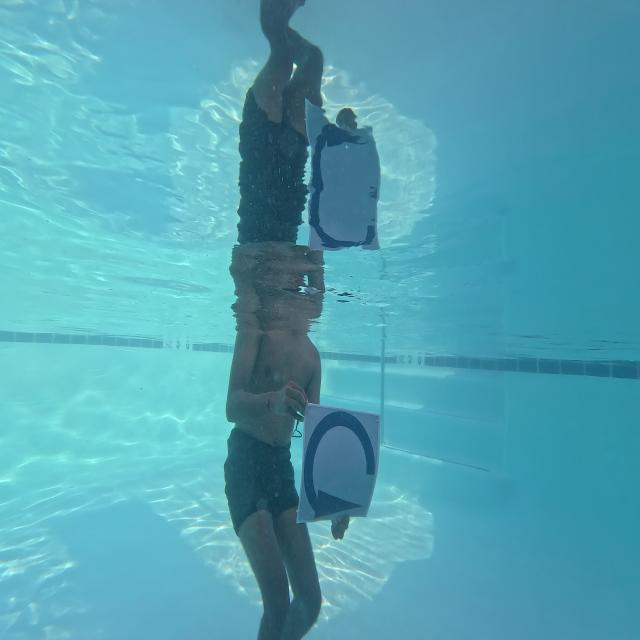blue_side: (300, 401, 378, 532)
